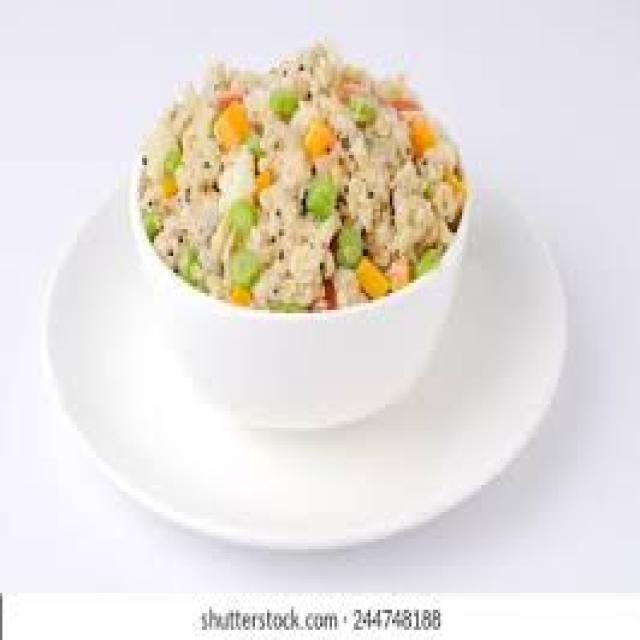UPMA: (135, 40, 464, 296)
